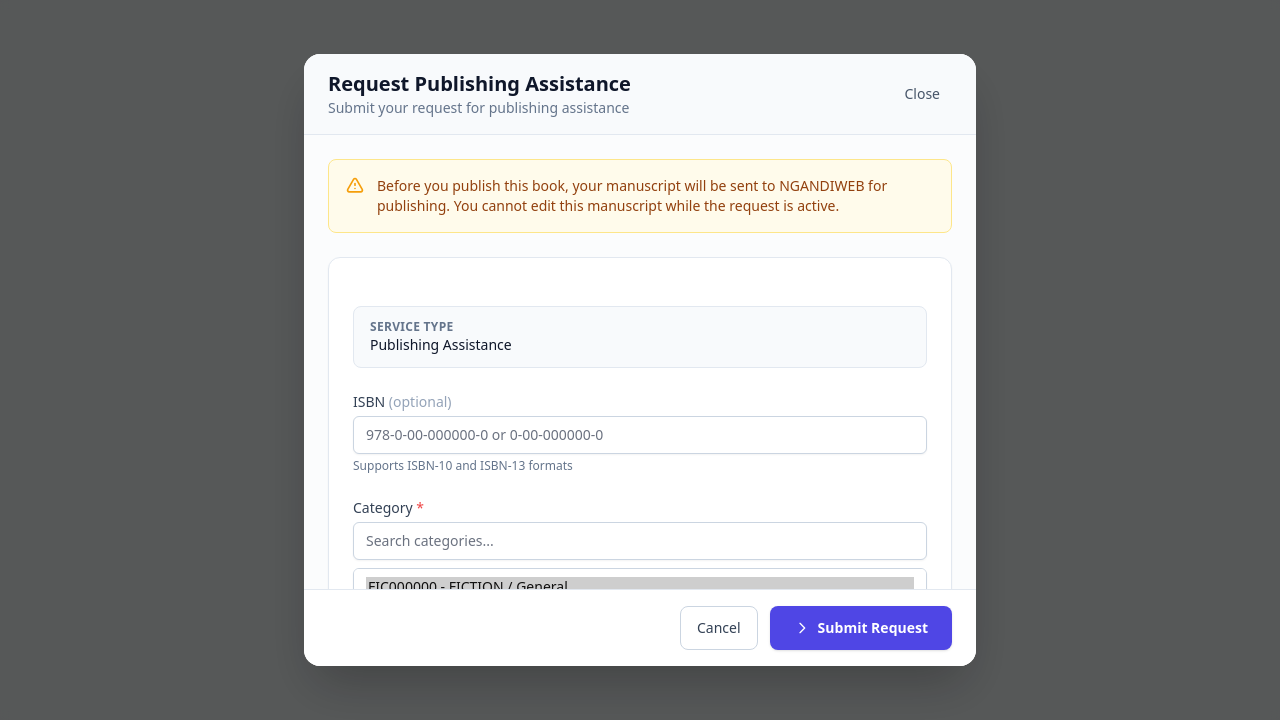
Test: PublishingRequestModal (Story 8.6) › Duplicate request handling › shows error with link to orders on 409 response
Click the button "Submit Request".
click(861, 628)  # box left=770, top=606, right=952, bottom=650
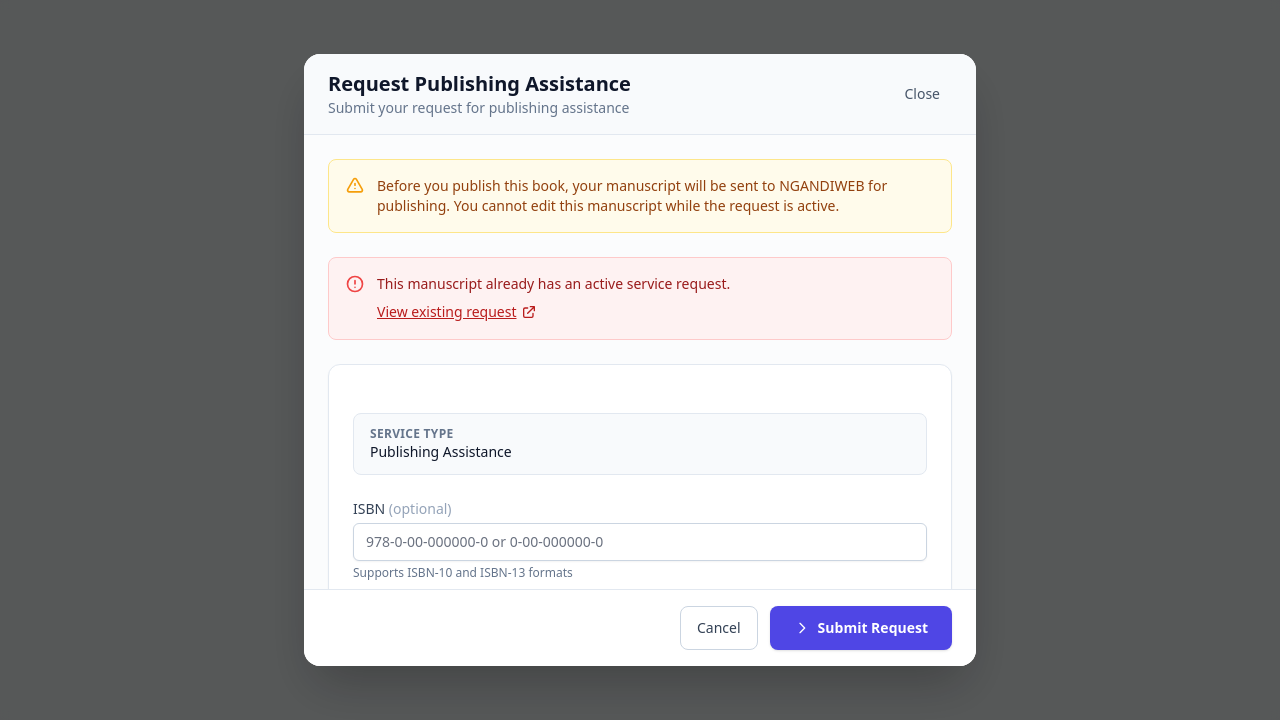
Expected: the text "This manuscript already has an active service request." is shown, left=377, top=274, right=730, bottom=293
Expected: the link "View existing request" is shown, left=377, top=302, right=536, bottom=322
